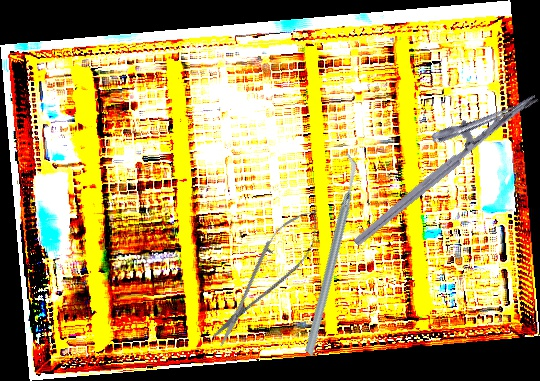Chopper: (235, 152, 424, 357)
Micro Scissor: (198, 196, 334, 357)
Needle Holder: (332, 68, 540, 248)
